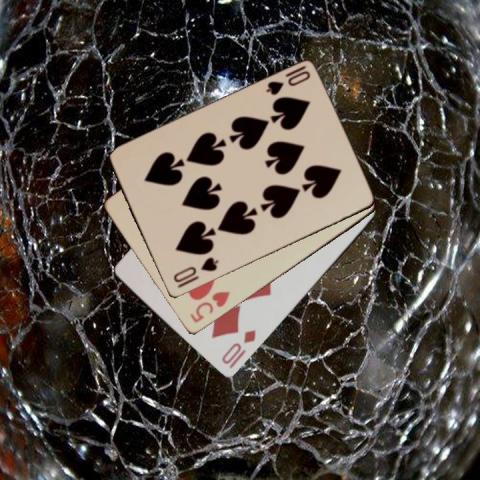10d: (219, 327, 257, 366)
10s: (170, 254, 219, 285), (263, 68, 312, 97)
5h: (187, 288, 232, 324)
